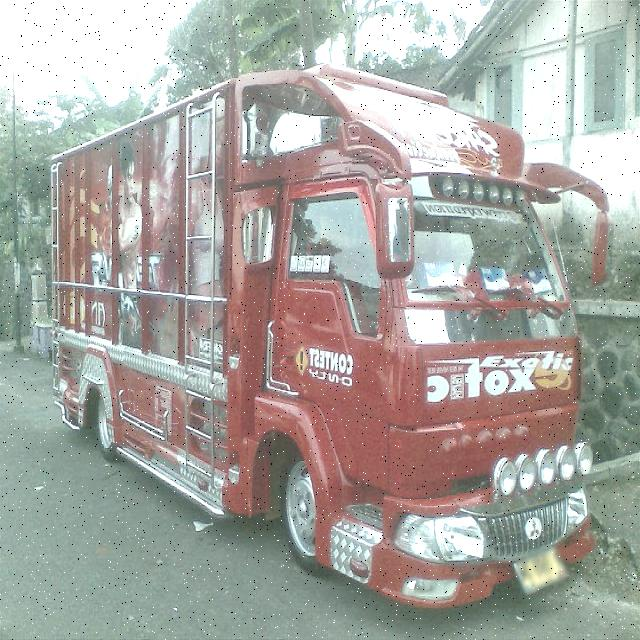truck: (51, 59, 618, 613)
